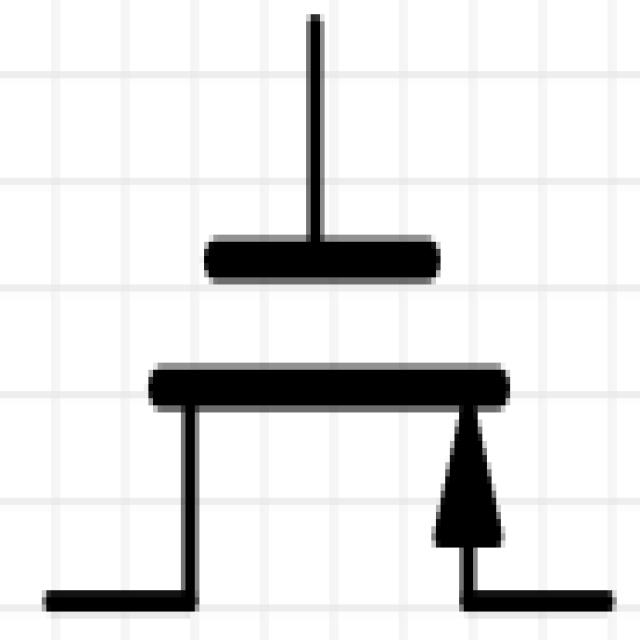pmos: (39, 10, 595, 635)
